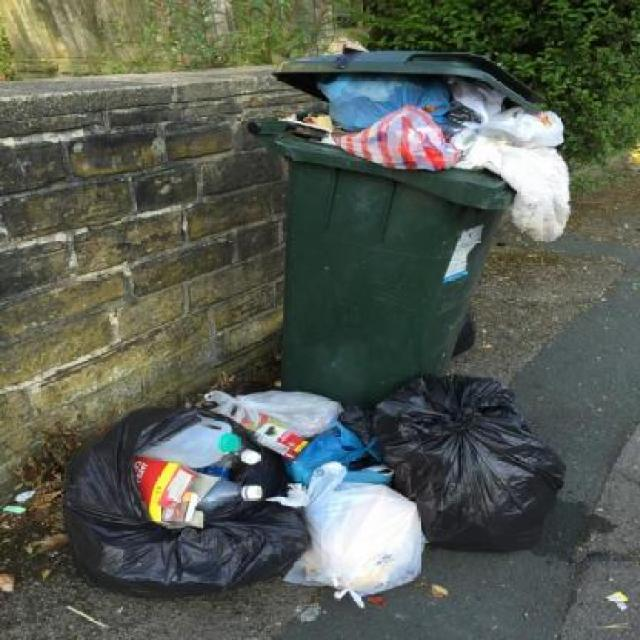garbage: (71, 392, 386, 586), (359, 368, 560, 558), (306, 80, 554, 233)
